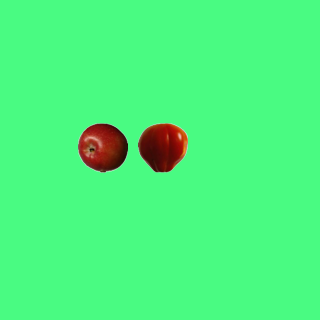Apple Braeburn: (77, 122, 127, 172)
Tomato 1: (137, 122, 187, 172)
